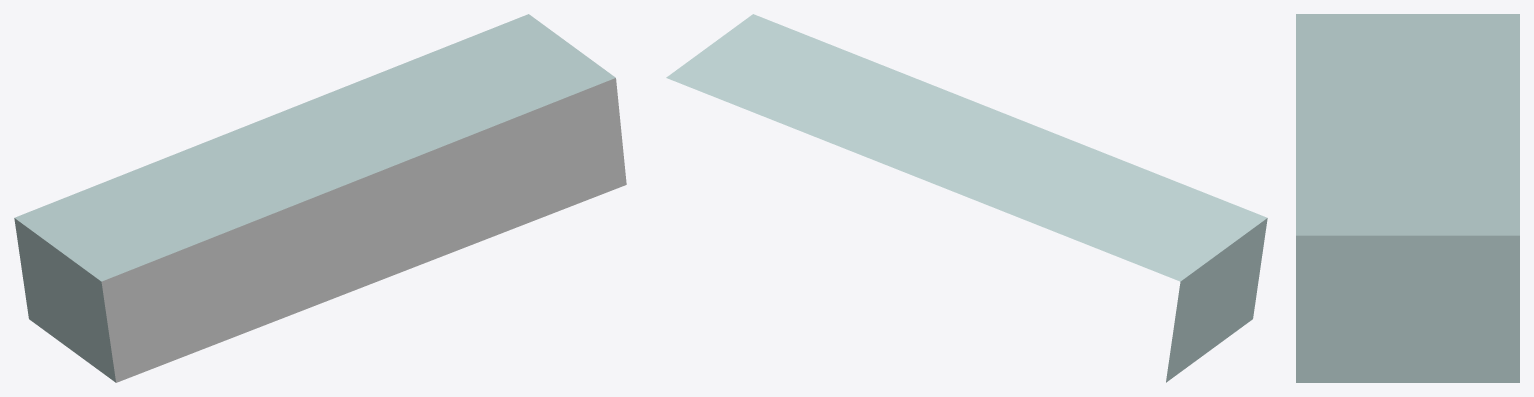
3 views of the same model, side by side, from view 1: azimuth 30°, elevation 25°; view 2: azimuth 150°, elevation 25°; view 3: azimuth 270°, elevation 25° (orthographic). The views are drawn at different scales.
Visible parts, largest first — view 1: 0_1_2_1_3_1_3_1_0; view 2: 0_1_2_1_3_1_3_1_0; view 3: 0_1_2_1_3_1_3_1_0.
Boxes of the visible parts, <box> form: 0_1_2_1_3_1_3_1_0: <box>14,14,626,382</box>; 0_1_2_1_3_1_3_1_0: <box>666,14,1267,382</box>; 0_1_2_1_3_1_3_1_0: <box>1296,14,1519,382</box>.
Bounding box in the file's own units: 10.43 × 3.48 × 3.
